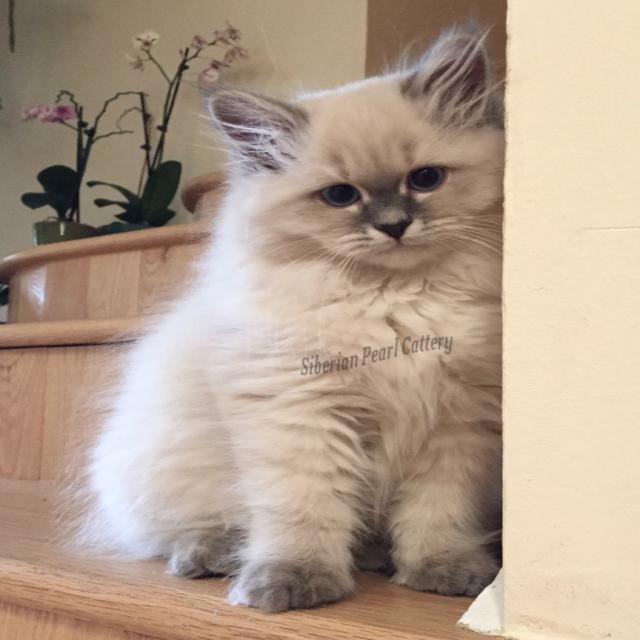Neva Masquerade: (75, 24, 505, 619)
